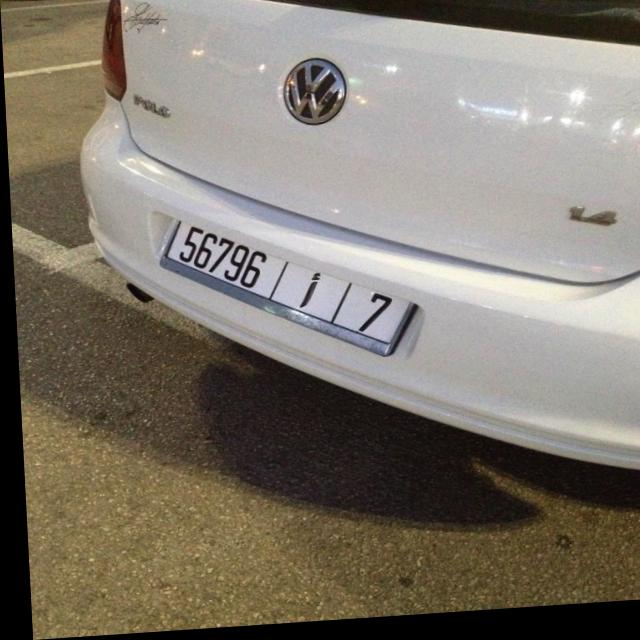License-Plate: (159, 225, 408, 359)
